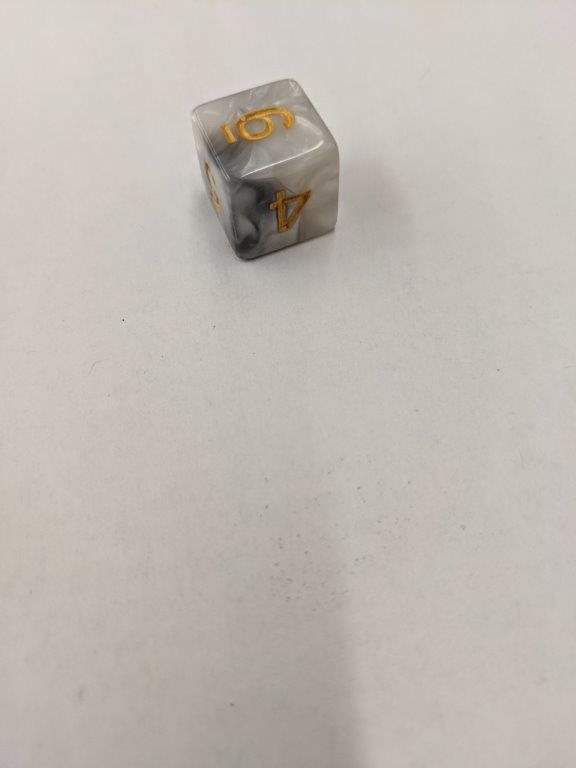d6-6: (192, 76, 342, 262)
